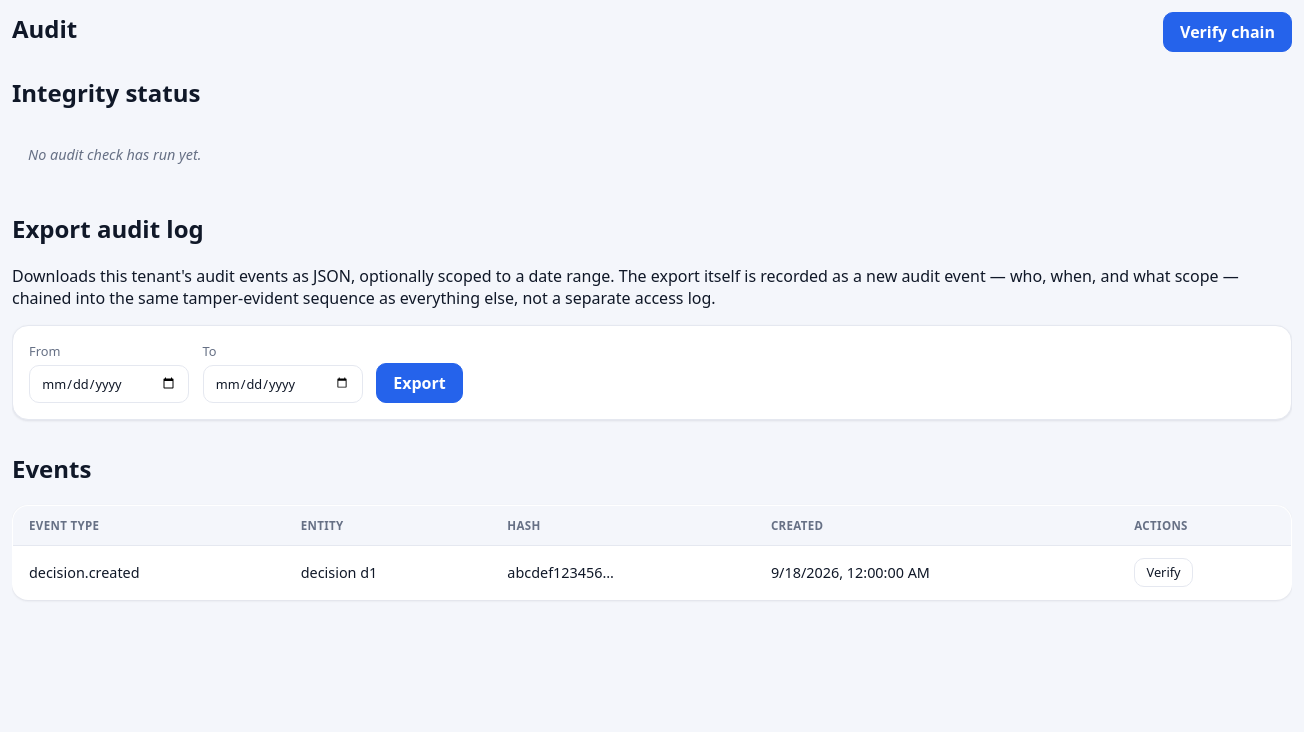
Test case: AuditPage › lists events and runs a real chain verification on demand
Expected: the text "decision.created" is shown, [12,546,285,600]
Expected: the text "No audit check has run yet." is shown, [28,145,202,164]
Click the button "Verify chain" at (1228,32), box [1163,12,1292,52]
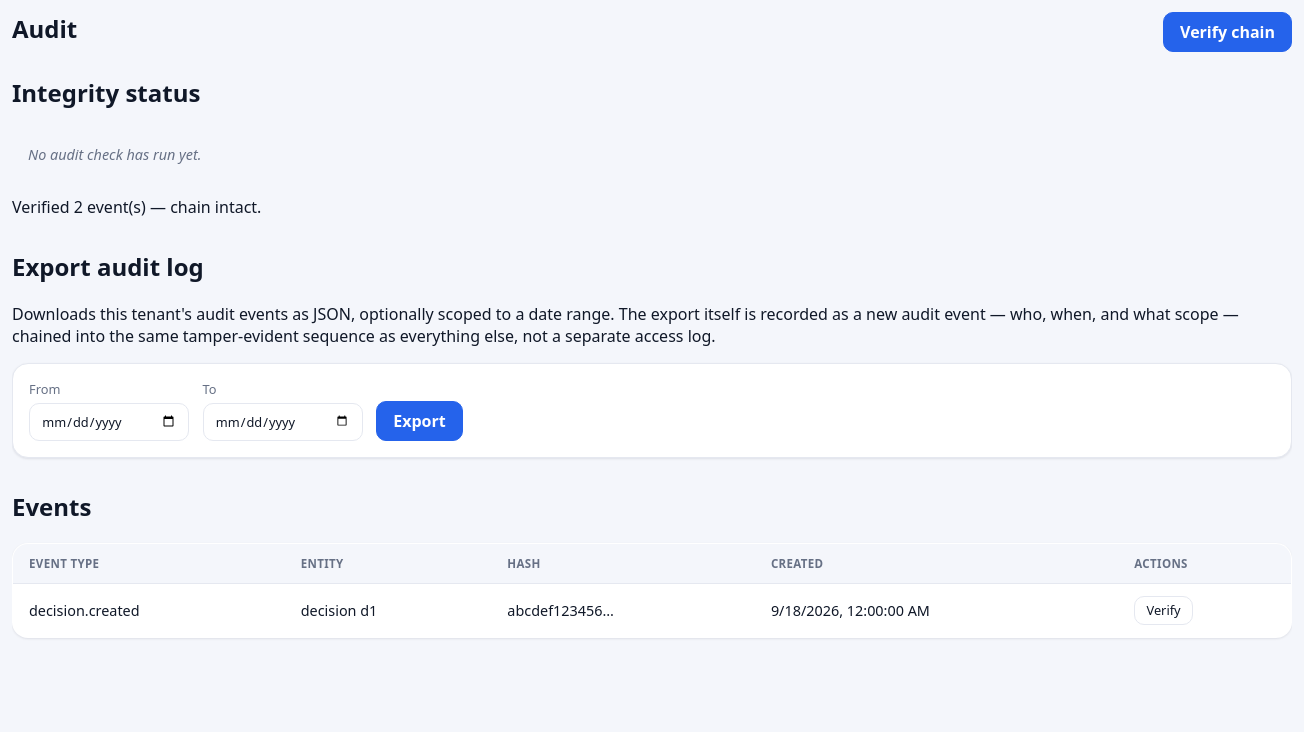
Result: the text "Verified 2 event(s) — chain intact." is shown at [12,196,261,218]
